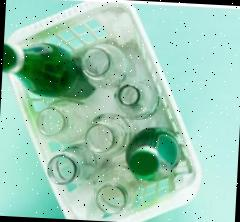glass: (0, 39, 185, 220)
